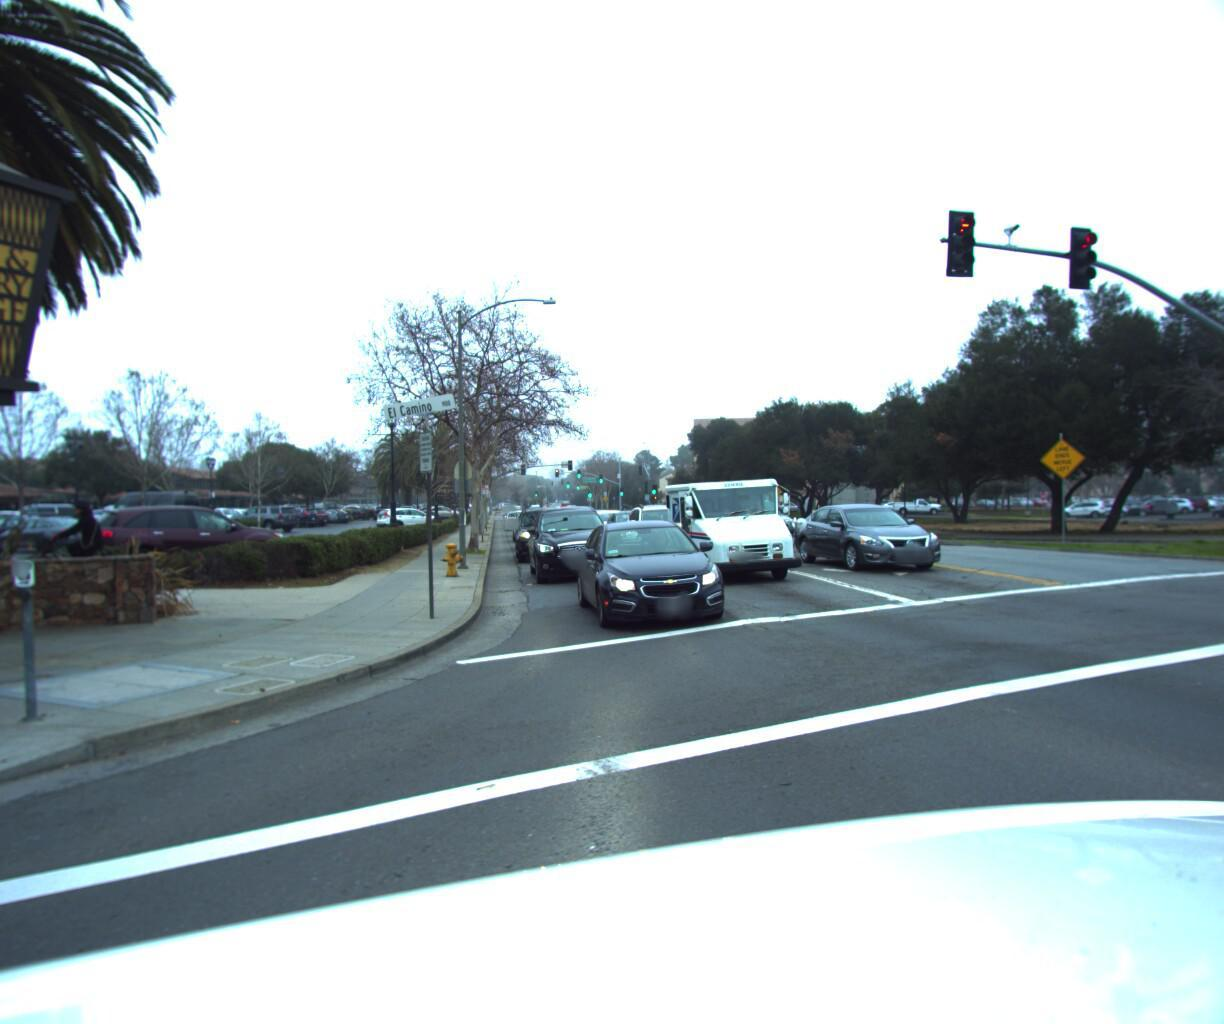bicycle: (9, 496, 136, 601)
car: (565, 511, 745, 651), (70, 500, 299, 586), (786, 497, 961, 578), (524, 499, 623, 593), (697, 491, 809, 556), (612, 496, 713, 566), (510, 502, 582, 568), (594, 505, 668, 552), (372, 502, 445, 533), (586, 504, 640, 544), (504, 505, 532, 532)
other_vehicle: (652, 470, 813, 594)
